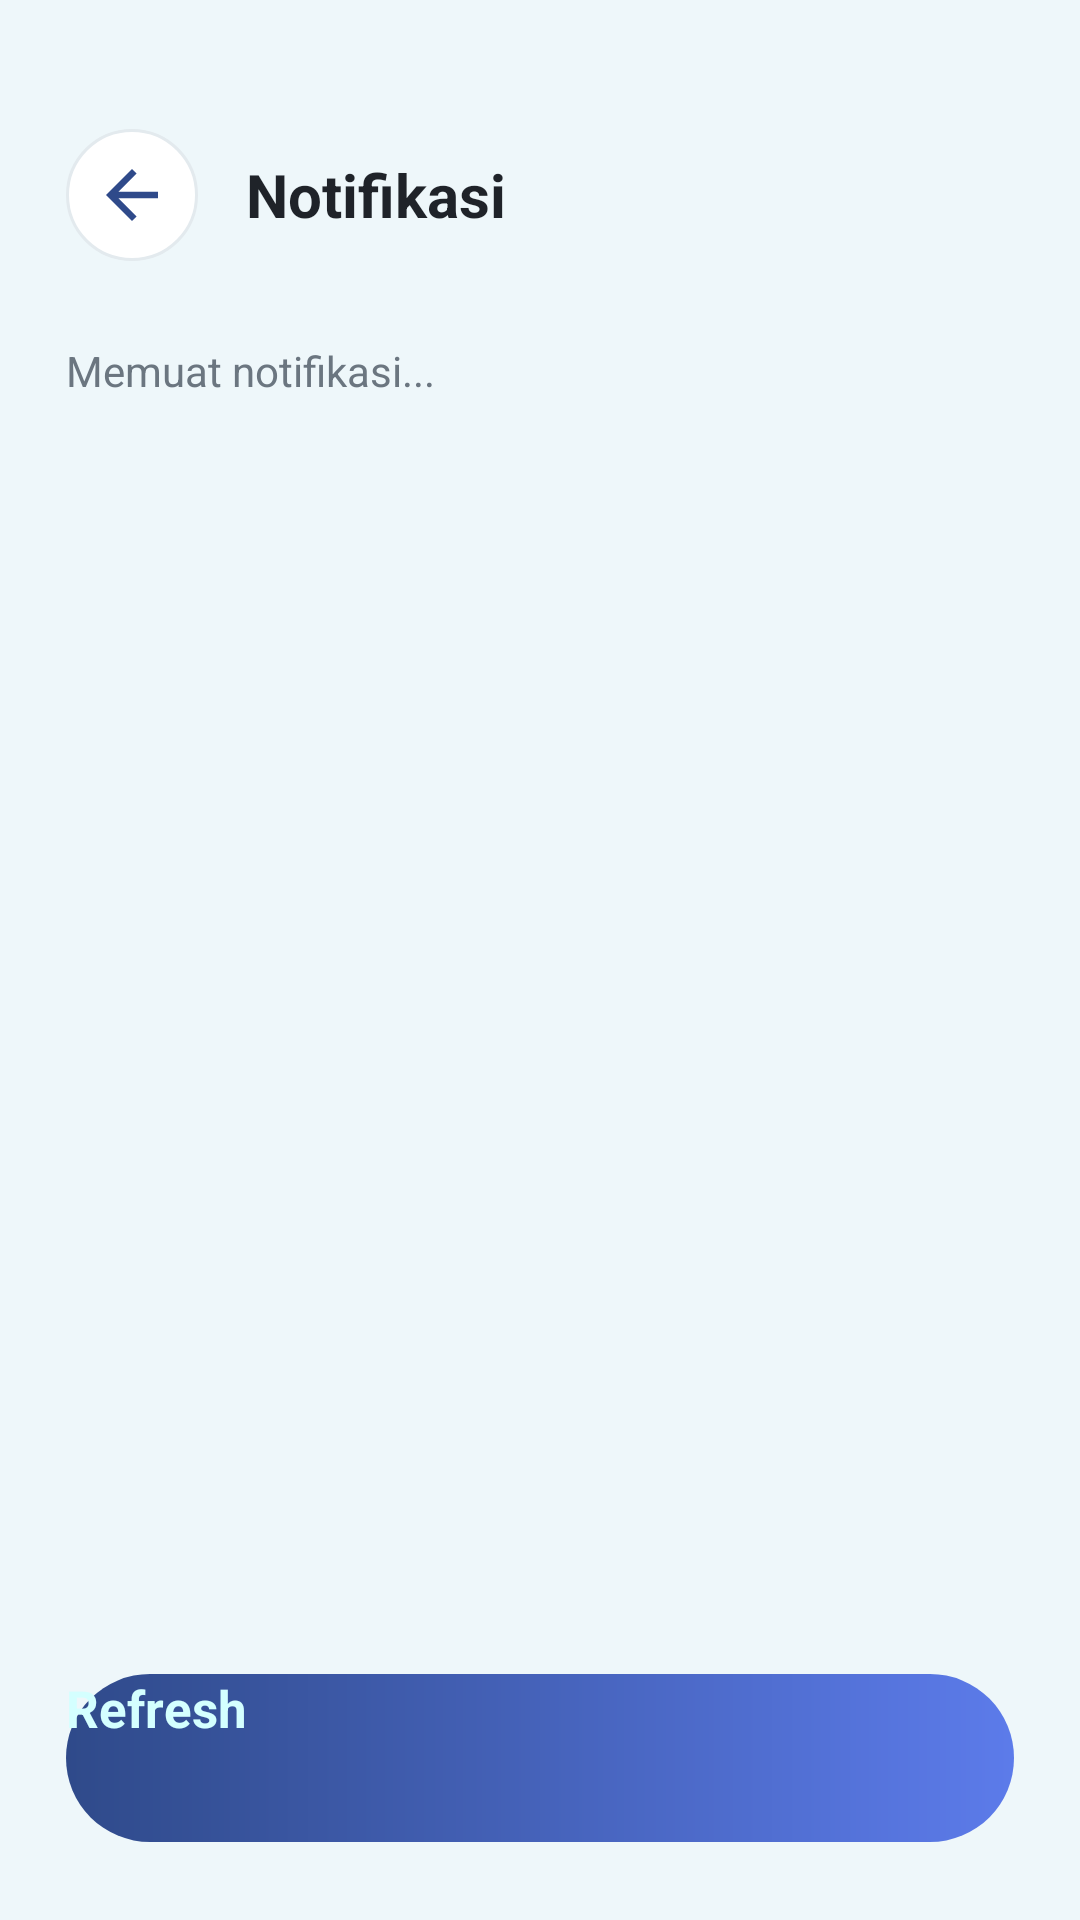

Icon bounding boxes for this 1080px x 1920px phone screenshot, format BBox(x1, y1, x2, y2):
back: BBox(106, 169, 158, 221)
